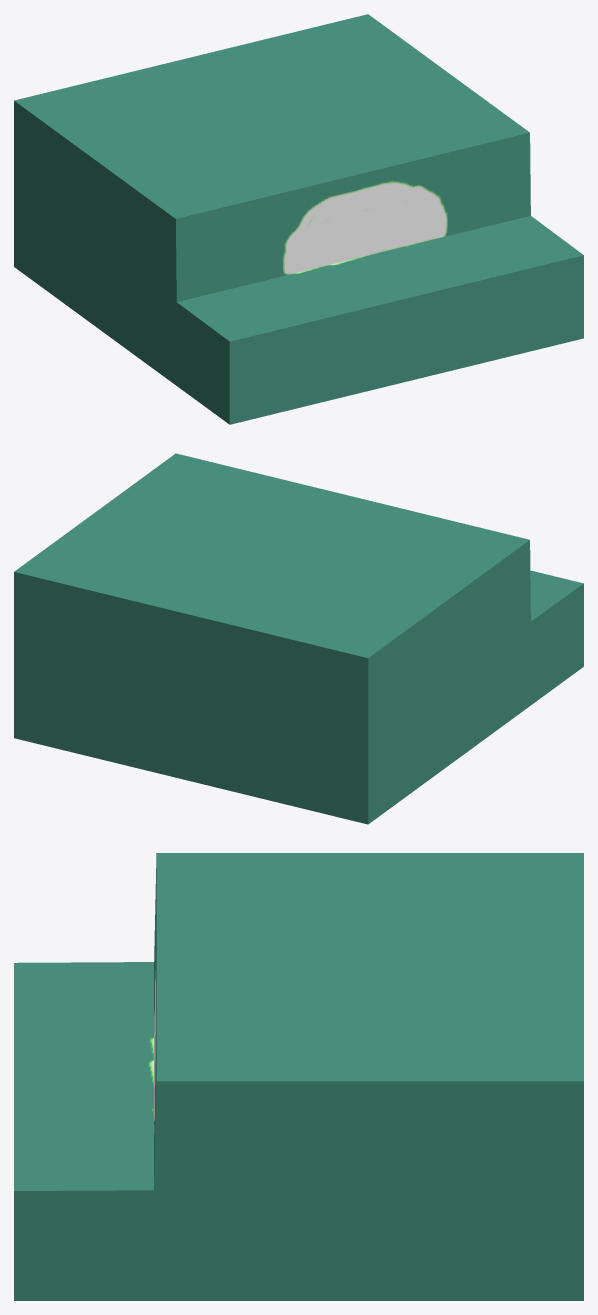
File: PlayerHat.obj
3 views of the same model, one above another, from view 1: azimuth 30°, elevation 25°; view 2: azimuth 150°, elevation 25°; view 3: azimuth 270°, elevation 25° (orthographic). The views are drawn at different scales.
Parts seen in each view (by area): view 1: 立方体; view 2: 立方体; view 3: 立方体.
Boxes of the visible parts, x1,y1,x2,y2 form: 立方体: [14, 14, 583, 424]; 立方体: [14, 453, 583, 824]; 立方体: [14, 853, 583, 1300].
Bounding box in the file's own units: 0.662 × 0.2971 × 0.6986.
1 material, 1 textured.
